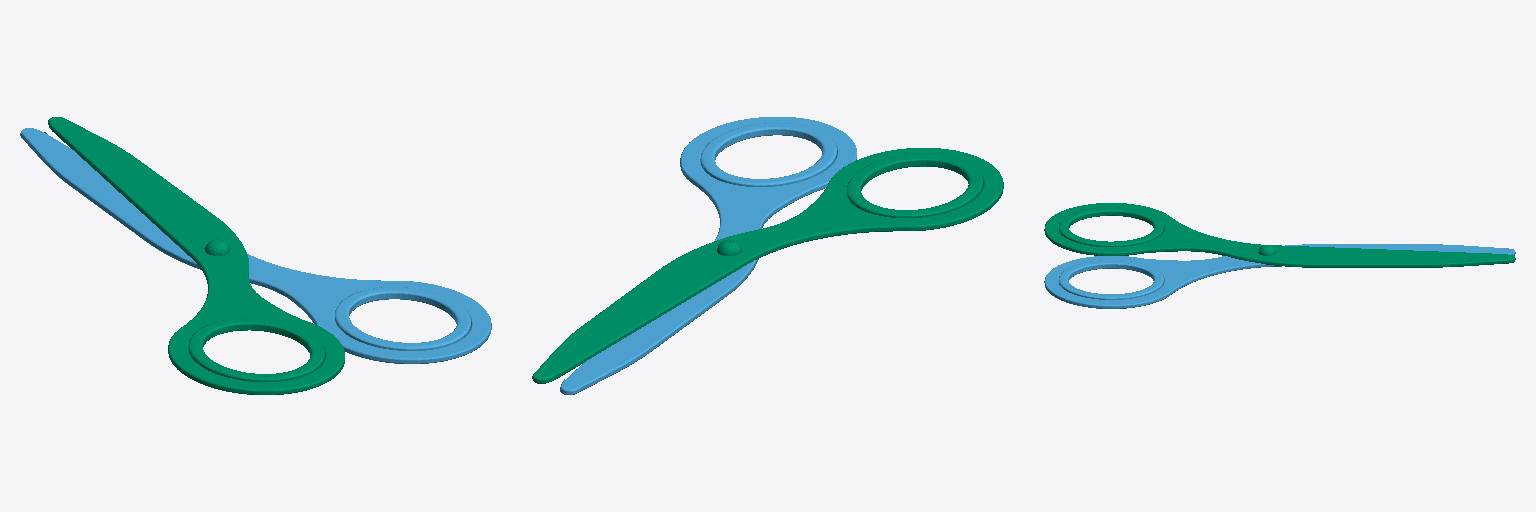
robot.urdf — partnet_c244333ac219f97e467ca2ad6571afff:
<?xml version="1.0" ?>
<robot name="partnet_c244333ac219f97e467ca2ad6571afff">
	<link name="base"/>
	<link name="link_0">
		<visual name="blade-4">
			<origin xyz="0.14084812448668135 0 0.011169244323719903"/>
			<geometry>
				<mesh filename="textured_objs/new-1.obj"/>
			</geometry>
		</visual>
		<visual name="handle-5">
			<origin xyz="0.14084812448668135 0 0.011169244323719903"/>
			<geometry>
				<mesh filename="textured_objs/new-0.obj"/>
			</geometry>
		</visual>
		<visual name="handle-5">
			<origin xyz="0.14084812448668135 0 0.011169244323719903"/>
			<geometry>
				<mesh filename="textured_objs/original-5.obj"/>
			</geometry>
		</visual>
		<collision>
			<origin xyz="0.14084812448668135 0 0.011169244323719903"/>
			<geometry>
				<mesh filename="textured_objs/new-1.obj"/>
			</geometry>
		</collision>
		<collision>
			<origin xyz="0.14084812448668135 0 0.011169244323719903"/>
			<geometry>
				<mesh filename="textured_objs/new-0.obj"/>
			</geometry>
		</collision>
		<collision>
			<origin xyz="0.14084812448668135 0 0.011169244323719903"/>
			<geometry>
				<mesh filename="textured_objs/original-5.obj"/>
			</geometry>
		</collision>
	</link>
	<joint name="joint_0" type="revolute">
		<origin xyz="-0.14084812448668135 0 -0.011169244323719903"/>
		<axis xyz="0 1 0"/>
		<child link="link_0"/>
		<parent link="link_1"/>
		<limit lower="-0.10681415022205304" upper="0.8356636458548851"/>
	</joint>
	<link name="link_1">
		<visual name="screw-3">
			<origin xyz="0 0 0"/>
			<geometry>
				<mesh filename="textured_objs/original-7.obj"/>
			</geometry>
		</visual>
		<visual name="blade-6">
			<origin xyz="0 0 0"/>
			<geometry>
				<mesh filename="textured_objs/new-3.obj"/>
			</geometry>
		</visual>
		<visual name="handle-7">
			<origin xyz="0 0 0"/>
			<geometry>
				<mesh filename="textured_objs/new-2.obj"/>
			</geometry>
		</visual>
		<visual name="handle-7">
			<origin xyz="0 0 0"/>
			<geometry>
				<mesh filename="textured_objs/original-2.obj"/>
			</geometry>
		</visual>
		<collision>
			<origin xyz="0 0 0"/>
			<geometry>
				<mesh filename="textured_objs/original-7.obj"/>
			</geometry>
		</collision>
		<collision>
			<origin xyz="0 0 0"/>
			<geometry>
				<mesh filename="textured_objs/new-3.obj"/>
			</geometry>
		</collision>
		<collision>
			<origin xyz="0 0 0"/>
			<geometry>
				<mesh filename="textured_objs/new-2.obj"/>
			</geometry>
		</collision>
		<collision>
			<origin xyz="0 0 0"/>
			<geometry>
				<mesh filename="textured_objs/original-2.obj"/>
			</geometry>
		</collision>
	</link>
	<joint name="joint_1" type="fixed">
		<origin rpy="1.570796326794897 0 -1.570796326794897" xyz="0 0 0"/>
		<child link="link_1"/>
		<parent link="base"/>
	</joint>
</robot>

--- Facts derived from the render (not from the file) ---
The picture shows the robot from 3 angles, left to right: view 1: azimuth 30°, elevation 25°; view 2: azimuth 150°, elevation 25°; view 3: azimuth 270°, elevation 25°; orthographic projection.
Robot: partnet_c244333ac219f97e467ca2ad6571afff — 3 links, 2 joints (1 revolute, 1 fixed); root link base; default pose: every joint at zero.
Visible links, largest first — view 1: link_1, link_0; view 2: link_1, link_0; view 3: link_1, link_0.
Boxes of the visible links, x1,y1,x2,y2 form: link_1: (48, 117, 344, 394); link_0: (20, 128, 491, 363); link_1: (532, 148, 1003, 383); link_0: (560, 117, 856, 394); link_1: (1044, 203, 1515, 267); link_0: (1044, 244, 1515, 308).
Bounding box of the posed robot: 0.8556 × 1.7 × 0.0539 m (x, y, z).
7 mesh visuals loaded from 7 distinct referenced files (7 OBJ).
